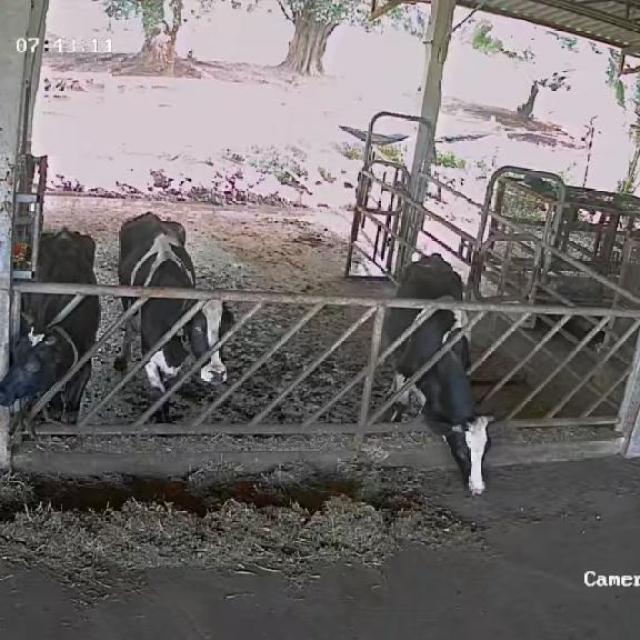feeding: (386, 252, 497, 506), (1, 214, 106, 444)
standing: (113, 208, 238, 430)
